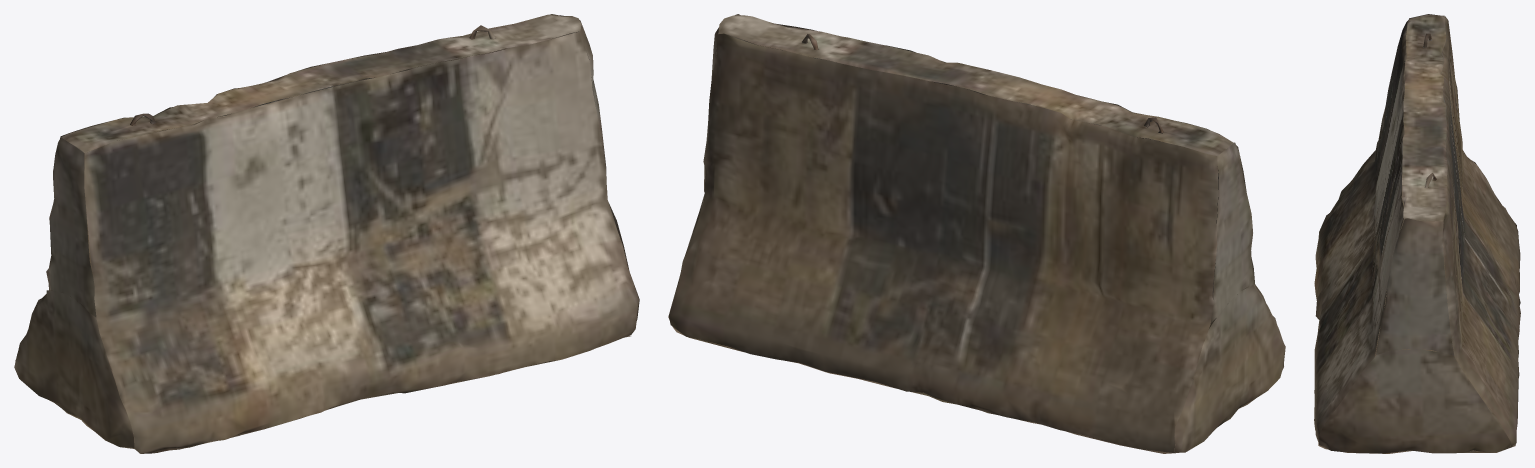
The model's file is concrete_road_barrier.glb.
3 views of the same model, side by side, from view 1: azimuth 30°, elevation 25°; view 2: azimuth 150°, elevation 25°; view 3: azimuth 270°, elevation 25° (orthographic). The views are drawn at different scales.
Visible parts, largest first — view 1: concrete_road_barrier; view 2: concrete_road_barrier; view 3: concrete_road_barrier.
Part boxes in pixels (left/top/right/bottom): concrete_road_barrier: left=14, top=14, right=639, bottom=453; concrete_road_barrier: left=668, top=14, right=1285, bottom=453; concrete_road_barrier: left=1314, top=14, right=1520, bottom=453.
Bounding box in the file's own units: 1.54 × 0.8347 × 0.6344.
1 material, 1 textured.
